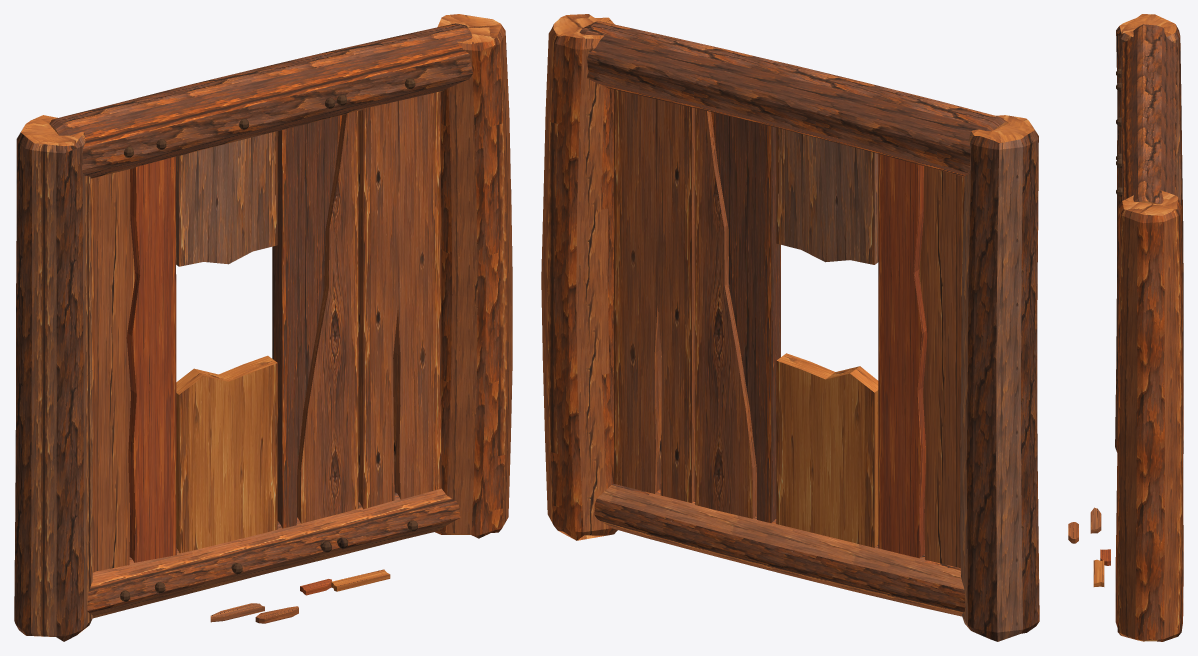
File: wall_cracked.glb
3 renders of one model, left to right at view 1: azimuth 30°, elevation 25°; view 2: azimuth 150°, elevation 25°; view 3: azimuth 270°, elevation 25°, orthographic. The views are drawn at different scales.
Parts seen in each view (by area): view 1: frame, board6, board1, board2, board5, board4, board0, board3, board10; view 2: frame, board6, board1, board2, board4, board5, board0, board3; view 3: frame, board10, board7, board8, board9.
Boxes of the visible parts, left/top/right/bottom form: frame: left=14, top=14, right=512, bottom=641; board6: left=358, top=78, right=441, bottom=531; board1: left=126, top=139, right=176, bottom=592; board2: left=176, top=355, right=277, bottom=574; board5: left=297, top=111, right=358, bottom=523; board4: left=272, top=115, right=347, bottom=552; board0: left=90, top=147, right=135, bottom=601; board3: left=176, top=131, right=277, bottom=266; board10: left=330, top=95, right=390, bottom=591; frame: left=541, top=14, right=1039, bottom=641; board6: left=614, top=89, right=695, bottom=502; board1: left=878, top=154, right=927, bottom=558; board2: left=776, top=353, right=878, bottom=547; board4: left=711, top=112, right=780, bottom=522; board5: left=695, top=108, right=756, bottom=518; board0: left=919, top=166, right=964, bottom=568; board3: left=776, top=127, right=878, bottom=264; frame: left=1115, top=14, right=1183, bottom=641; board10: left=1093, top=158, right=1121, bottom=586; board7: left=1090, top=117, right=1121, bottom=533; board8: left=1068, top=522, right=1078, bottom=543; board9: left=1100, top=153, right=1121, bottom=565.
Bounding box in the file's own units: 2 × 1.99 × 0.4745.
Materials: 17 (17 with a texture image).
